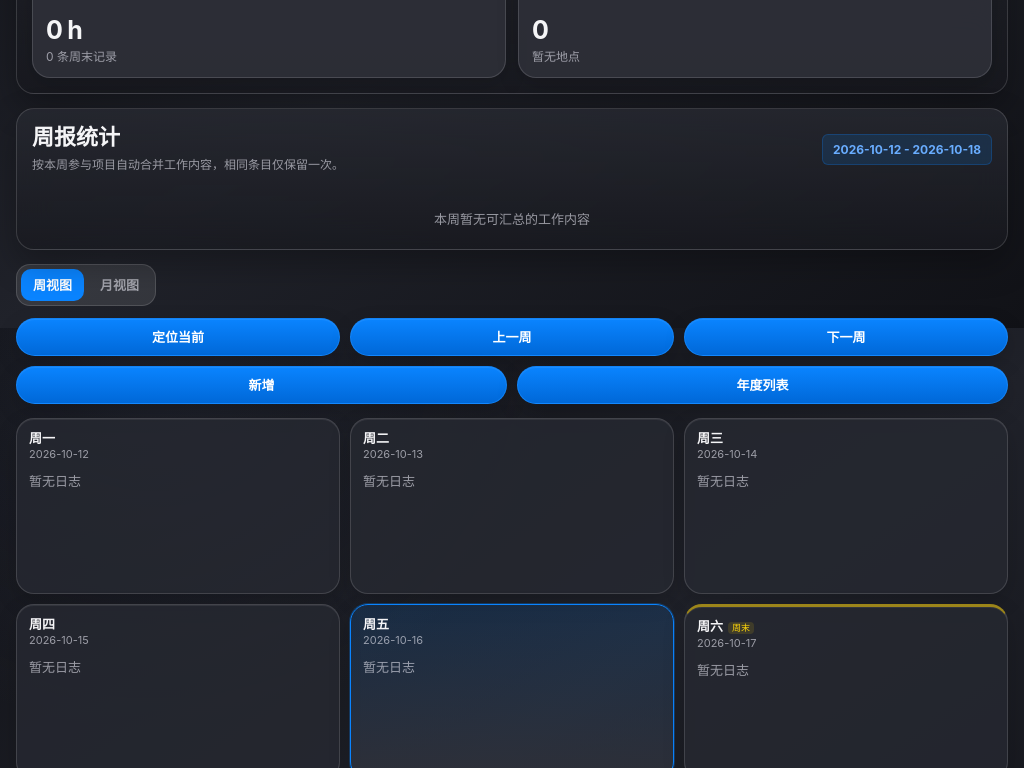
Scenario: WorkLog MacDialog integration › renders the create form and footer submit button in the teleported MacDialog
(page scrolled)
Click the button "新增" at (262, 385), box [16,366,507,404]
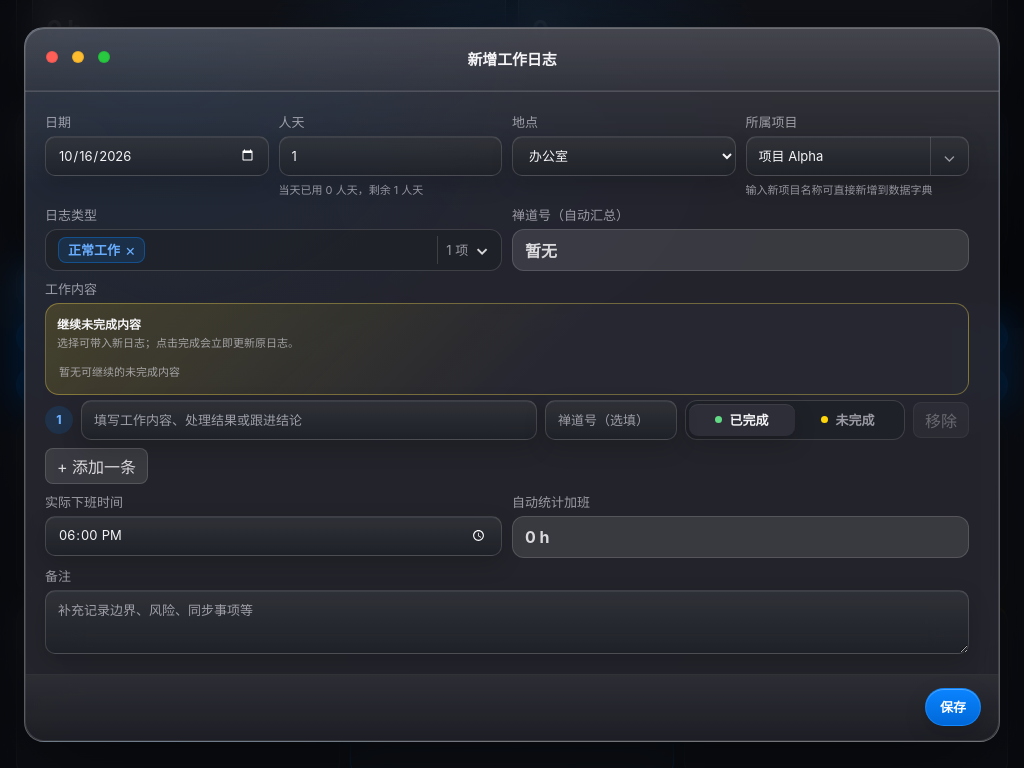
Expected: the dialog with class "work-log-dialog" is shown
Expected: the heading with class "mac-dialog-title" reads "新增工作日志", [468,50,556,69]
Expected: the form with id "work-log-dialog-form" is shown
